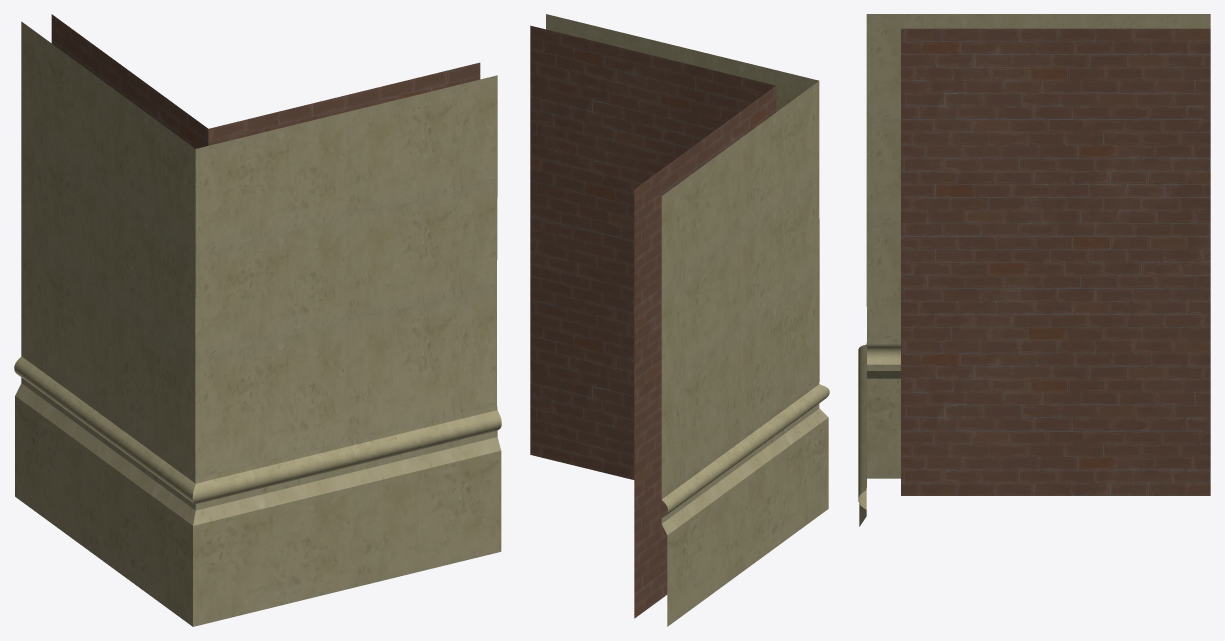
The model's file is Trim_Corner.glb.
The picture shows the model from 3 angles, left to right: view 1: azimuth 30°, elevation 25°; view 2: azimuth 150°, elevation 25°; view 3: azimuth 270°, elevation 25°; orthographic projection. The views are drawn at different scales.
Visible parts, largest first — view 1: Trim_Corner; view 2: Trim_Corner; view 3: Trim_Corner.
Boxes of the visible parts, box(x1,y1,x2,y2) form: Trim_Corner: box(14, 14, 501, 626); Trim_Corner: box(530, 14, 829, 626); Trim_Corner: box(858, 14, 1210, 526).
Bounding box in the file's own units: 2.05 × 3 × 2.05.
2 materials, 2 textured.
